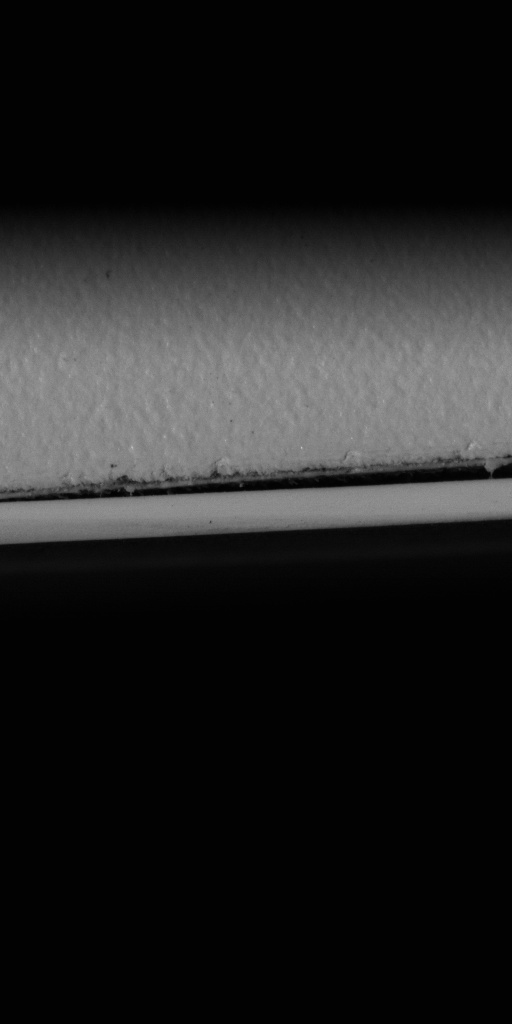kaijiao: (0, 443, 511, 551)
